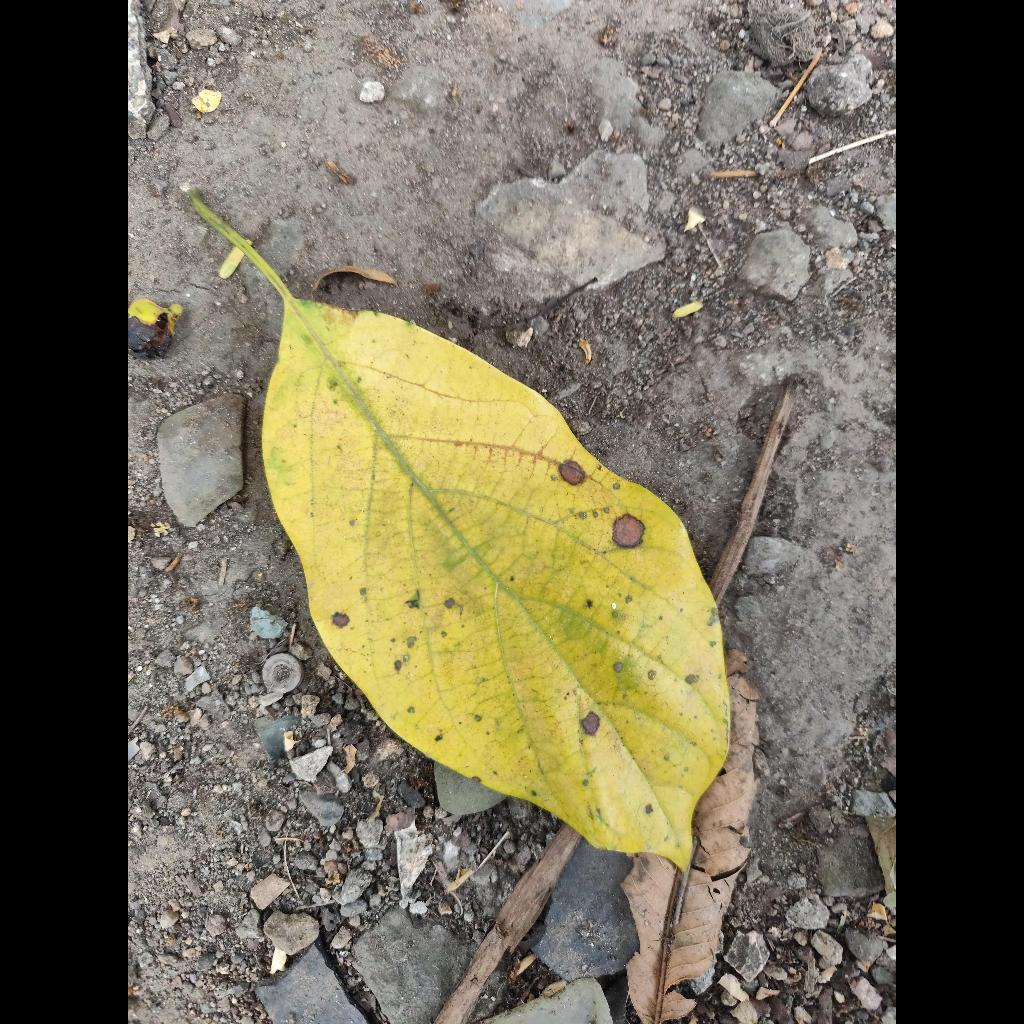nutrient_deficiency: (249, 248, 730, 867)
